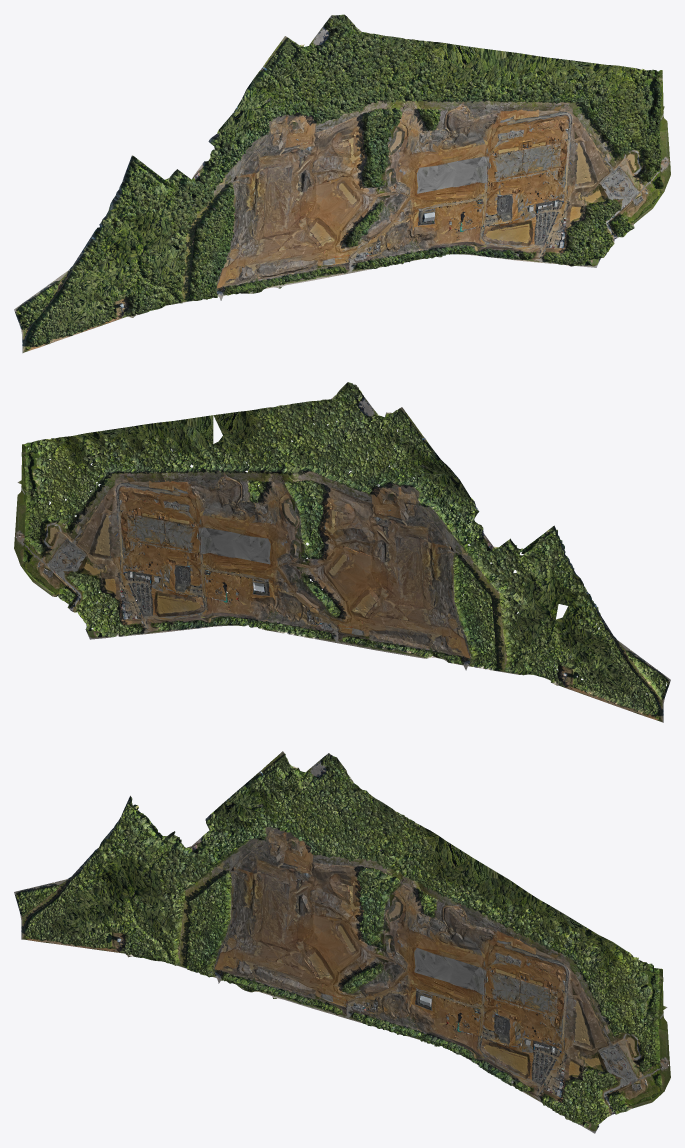
The picture shows the model from 3 angles, top to bottom: view 1: azimuth 30°, elevation 25°; view 2: azimuth 150°, elevation 25°; view 3: azimuth 330°, elevation 25°; orthographic projection.
Visible parts, largest first — view 1: scene_mesh_textured; view 2: scene_mesh_textured; view 3: scene_mesh_textured.
Boxes of the visible parts, x1,y1,x2,y2 form: scene_mesh_textured: (14, 14, 670, 353); scene_mesh_textured: (14, 382, 670, 722); scene_mesh_textured: (14, 751, 670, 1133).
Size of the model in its own units: 2764 by 1277 by 90.56.
Materials: 166 (166 with a texture image).
